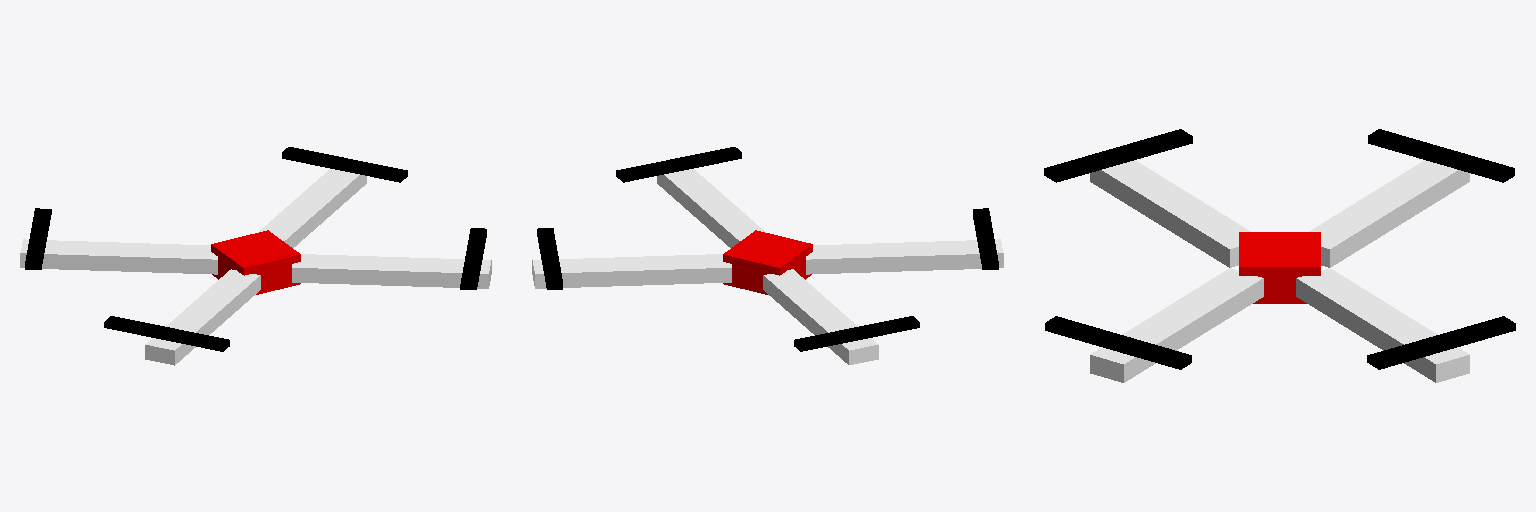
The robot description file, URDF, robot "chirya":
<?xml version="1.0"?>

<robot name="chirya">
    <link name="base_footprint"/>

    <link name="base">
         <visual>
            <geometry>
                <box size="0.2 0.2 0.1"/>
            </geometry>
            <material name="red">
            <color rgba="1 0 0 1" />
            </material>
        </visual>

        <inertial>
            <mass value="1" />
            <inertia ixx="0.01" ixy="0.0" ixz="0" 
            iyy="0.01" iyz="0" izz="0.01" />
        </inertial>
        <collision>
            <geometry>
                <box size="0.2 0.2 0.1"/>
            </geometry>
            <contact_coefficients mu="0" kp="1000.0" kd="1.0"/>
        </collision>
    </link>
    <joint name="base_joint" type="fixed">
      <parent link="base_footprint"/>
      <child link="base"/>
      <origin rpy="0 0 0" xyz="0 0 0.05"/>
    </joint>
    

    <link name="front_right_arm">
        <visual>
           <geometry>
               <box size="0.6 0.1 0.05"/>
           </geometry>
           <material name="white">
            <color rgba="1 1 1 1" />
           </material>
        </visual>
        <inertial>
            <mass value="1" />
            <inertia ixx="0.01" ixy="0.0" ixz="0" 
            iyy="0.01" iyz="0" izz="0.01" />
        </inertial>
        <collision>
           <geometry>
            <box size="0.6 0.1 0.05"/>
           </geometry>
           <contact_coefficients mu="0" kp="1000.0" kd="1.0"/>
        </collision>
   </link>
   <joint name="front_right_arm_joint" type="fixed">
     <parent link="base"/>
     <child link="front_right_arm"/>
     <origin rpy="0 0 -0.6" xyz="0.33 -0.25 0"/>
   </joint>
  
   <link name="front_left_arm">
    <visual>
       <geometry>
           <box size="0.6 0.1 0.05"/>
       </geometry>
       <material name="white">
        <color rgba="1 1 1 1" />
       </material>
    </visual>
    <inertial>
        <mass value="1" />
        <inertia ixx="0.01" ixy="0.0" ixz="0" 
        iyy="0.01" iyz="0" izz="0.01" />
    </inertial>
    <collision>
       <geometry>
        <box size="0.6 0.1 0.05"/>
       </geometry>
       <contact_coefficients mu="0" kp="1000.0" kd="1.0"/>
    </collision>
</link>
<joint name="front_left_arm_joint" type="fixed">
 <parent link="base"/>
 <child link="front_left_arm"/>
 <origin rpy="0 0 0.6" xyz="0.33 0.25 0"/>
</joint>

   

<link name="back_left_arm">
    <visual>
       <geometry>
           <box size="0.6 0.1 0.05"/>
       </geometry>
       <material name="white">
        <color rgba="1 1 1 1" />
       </material>
    </visual>
    <inertial>
        <mass value="1" />
        <inertia ixx="0.01" ixy="0.0" ixz="0" 
        iyy="0.01" iyz="0" izz="0.01" />
    </inertial>
    <collision>
       <geometry>
        <box size="0.6 0.1 0.05"/>
       </geometry>
       <contact_coefficients mu="0" kp="1000.0" kd="1.0"/>
    </collision>
</link>
<joint name="back_left_arm_joint" type="fixed">
 <parent link="base"/>
 <child link="back_left_arm"/>
 <origin rpy="0 0 -0.6" xyz="-0.33 0.25 0"/>
</joint>


<link name="back_right_arm">
    <visual>
       <geometry>
           <box size="0.6 0.1 0.05"/>
       </geometry>
       <material name="white">
        <color rgba="1 1 1 1" />
       </material>
    </visual>
    <inertial>
        <mass value="1" />
        <inertia ixx="0.01" ixy="0.0" ixz="0" 
        iyy="0.01" iyz="0" izz="0.01" />
    </inertial>
    <collision>
       <geometry>
        <box size="0.6 0.1 0.05"/>
       </geometry>
       <contact_coefficients mu="0" kp="1000.0" kd="1.0"/>
    </collision>
</link>
<joint name="back_right_arm_joint" type="fixed">
 <parent link="base"/>
 <child link="back_right_arm"/>
 <origin rpy="0 0 0.6" xyz="-0.33 -0.25 0"/>
</joint>

<!-- wings -->

<link name="back_right_porpeller">
    <visual>
       <geometry>
           <box size="0.4 0.05 0.02"/>
       </geometry>
       <material name="black">
        <color rgba="0 0 0 1" />
       </material>
    </visual>
    <inertial>
        <mass value="1" />
        <inertia ixx="0.01" ixy="0.0" ixz="0" 
        iyy="0.01" iyz="0" izz="0.01" />
    </inertial>
    <collision>
       <geometry>
        <box size="0.4 0.05 0.02"/>
       </geometry>
       <contact_coefficients mu="0" kp="1000.0" kd="1.0"/>
    </collision>
</link>
<joint name="back_right_porpeller_joint" type="fixed">
 <parent link="back_right_arm"/>
 <child link="back_right_porpeller"/>
 <origin rpy="0 0 1.57" xyz="-0.25 0 0.05"/>
</joint>


<link name="back_left_porpeller">
    <visual>
       <geometry>
           <box size="0.4 0.05 0.02"/>
       </geometry>
       <material name="black">
        <color rgba="0 0 0 1" />
       </material>
    </visual>
    <inertial>
        <mass value="1" />
        <inertia ixx="0.01" ixy="0.0" ixz="0" 
        iyy="0.01" iyz="0" izz="0.01" />
    </inertial>
    <collision>
       <geometry>
        <box size="0.4 0.05 0.02"/>
       </geometry>
       <contact_coefficients mu="0" kp="1000.0" kd="1.0"/>
    </collision>
</link>
<joint name="back_left_porpeller_joint" type="fixed">
 <parent link="back_left_arm"/>
 <child link="back_left_porpeller"/>
 <origin rpy="0 0 1.57" xyz="-0.25 0 0.05"/>
</joint>



<link name="front_left_porpeller">
    <visual>
       <geometry>
           <box size="0.4 0.05 0.02"/>
       </geometry>
       <material name="black">
        <color rgba="0 0 0 1" />
       </material>
    </visual>
    <inertial>
        <mass value="1" />
        <inertia ixx="0.01" ixy="0.0" ixz="0" 
        iyy="0.01" iyz="0" izz="0.01" />
    </inertial>
    <collision>
       <geometry>
        <box size="0.4 0.05 0.02"/>
       </geometry>
       <contact_coefficients mu="0" kp="1000.0" kd="1.0"/>
    </collision>
</link>
<joint name="front_left_porpeller_joint" type="fixed">
 <parent link="front_left_arm"/>
 <child link="front_left_porpeller"/>
 <origin rpy="0 0 1.57" xyz="0.25 0 0.05"/>
</joint>


<link name="front_right_porpeller">
    <visual>
       <geometry>
           <box size="0.4 0.05 0.02"/>
       </geometry>
       <material name="black">
        <color rgba="0 0 0 1" />
       </material>
    </visual>
    <inertial>
        <mass value="1" />
        <inertia ixx="0.01" ixy="0.0" ixz="0" 
        iyy="0.01" iyz="0" izz="0.01" />
    </inertial>
    <collision>
       <geometry>
        <box size="0.4 0.05 0.02"/>
       </geometry>
       <contact_coefficients mu="0" kp="1000.0" kd="1.0"/>
    </collision>
</link>
<joint name="front_right_porpeller" type="fixed">
 <parent link="front_right_arm"/>
 <child link="front_right_porpeller"/>
 <origin rpy="0 0 1.57" xyz="0.25 0 0.05"/>
</joint>

<gazebo reference="front_right_arm">
    <material>Gazebo/Orange</material>
</gazebo>
<gazebo reference="front_right_porpeller">
    <material>Gazebo/Black</material>
</gazebo>
<gazebo reference="front_left_arm">
    <material>Gazebo/Orange</material>
</gazebo>
<gazebo reference="front_left_porpeller">
    <material>Gazebo/Black</material>
</gazebo>
<gazebo reference="back_right_arm">
    <material>Gazebo/Orange</material>
</gazebo>
<gazebo reference="back_right_porpeller">
    <material>Gazebo/Black</material>
</gazebo>
<gazebo reference="back_left_arm">
    <material>Gazebo/Orange</material>
</gazebo>
<gazebo reference="back_left_porpeller">
    <material>Gazebo/Black</material>
</gazebo>
  
 
      
  </robot>

--- What the picture shows (computed from the rendered views, not written in the file) ---
Views: 3 orthographic renders of the robot side by side, from view 1: azimuth 30°, elevation 25°; view 2: azimuth 150°, elevation 25°; view 3: azimuth 270°, elevation 25°.
Robot: chirya — 10 links, 9 joints (9 fixed); root link base_footprint; default pose: all joints at 0.
Visible links, largest first — view 1: front_right_arm, back_left_arm, back_right_arm, front_left_arm, base, front_left_porpeller, back_right_porpeller, front_right_porpeller, back_left_porpeller; view 2: front_left_arm, back_right_arm, back_left_arm, front_right_arm, base, front_right_porpeller, back_left_porpeller, front_left_porpeller, back_right_porpeller; view 3: front_right_arm, front_left_arm, back_right_arm, back_left_arm, base, front_left_porpeller, back_right_porpeller, back_left_porpeller, front_right_porpeller.
Boxes of the visible links, x1=… form: front_right_arm: x1=292, y1=254, x2=491, y2=288; back_left_arm: x1=20, y1=239, x2=217, y2=274; back_right_arm: x1=145, y1=269, x2=260, y2=365; front_left_arm: x1=258, y1=169, x2=366, y2=247; base: x1=211, y1=230, x2=300, y2=294; front_left_porpeller: x1=282, y1=147, x2=407, y2=182; back_right_porpeller: x1=104, y1=316, x2=229, y2=351; front_right_porpeller: x1=460, y1=228, x2=486, y2=289; back_left_porpeller: x1=25, y1=208, x2=51, y2=269; front_left_arm: x1=532, y1=254, x2=731, y2=288; back_right_arm: x1=806, y1=239, x2=1003, y2=274; back_left_arm: x1=763, y1=269, x2=878, y2=364; front_right_arm: x1=657, y1=169, x2=765, y2=247; base: x1=723, y1=230, x2=812, y2=294; front_right_porpeller: x1=616, y1=147, x2=741, y2=182; back_left_porpeller: x1=794, y1=316, x2=919, y2=351; front_left_porpeller: x1=537, y1=228, x2=562, y2=289; back_right_porpeller: x1=973, y1=208, x2=998, y2=269; front_right_arm: x1=1090, y1=268, x2=1263, y2=382; front_left_arm: x1=1296, y1=268, x2=1469, y2=382; back_right_arm: x1=1090, y1=160, x2=1250, y2=267; back_left_arm: x1=1309, y1=160, x2=1469, y2=267; base: x1=1239, y1=232, x2=1320, y2=303; front_left_porpeller: x1=1367, y1=316, x2=1515, y2=369; back_right_porpeller: x1=1044, y1=129, x2=1192, y2=182; back_left_porpeller: x1=1368, y1=129, x2=1514, y2=182; front_right_porpeller: x1=1045, y1=316, x2=1191, y2=369.
Size in the robot's own frame: 1.34 by 1.14 by 0.11 metres.
Geometry: primitives only (box / cylinder / sphere), no mesh files.
